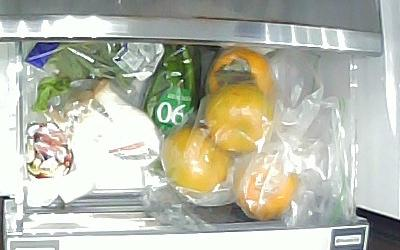persimmon_vinyl: (204, 84, 271, 154), (160, 125, 230, 192), (238, 155, 301, 220), (203, 49, 273, 104)
